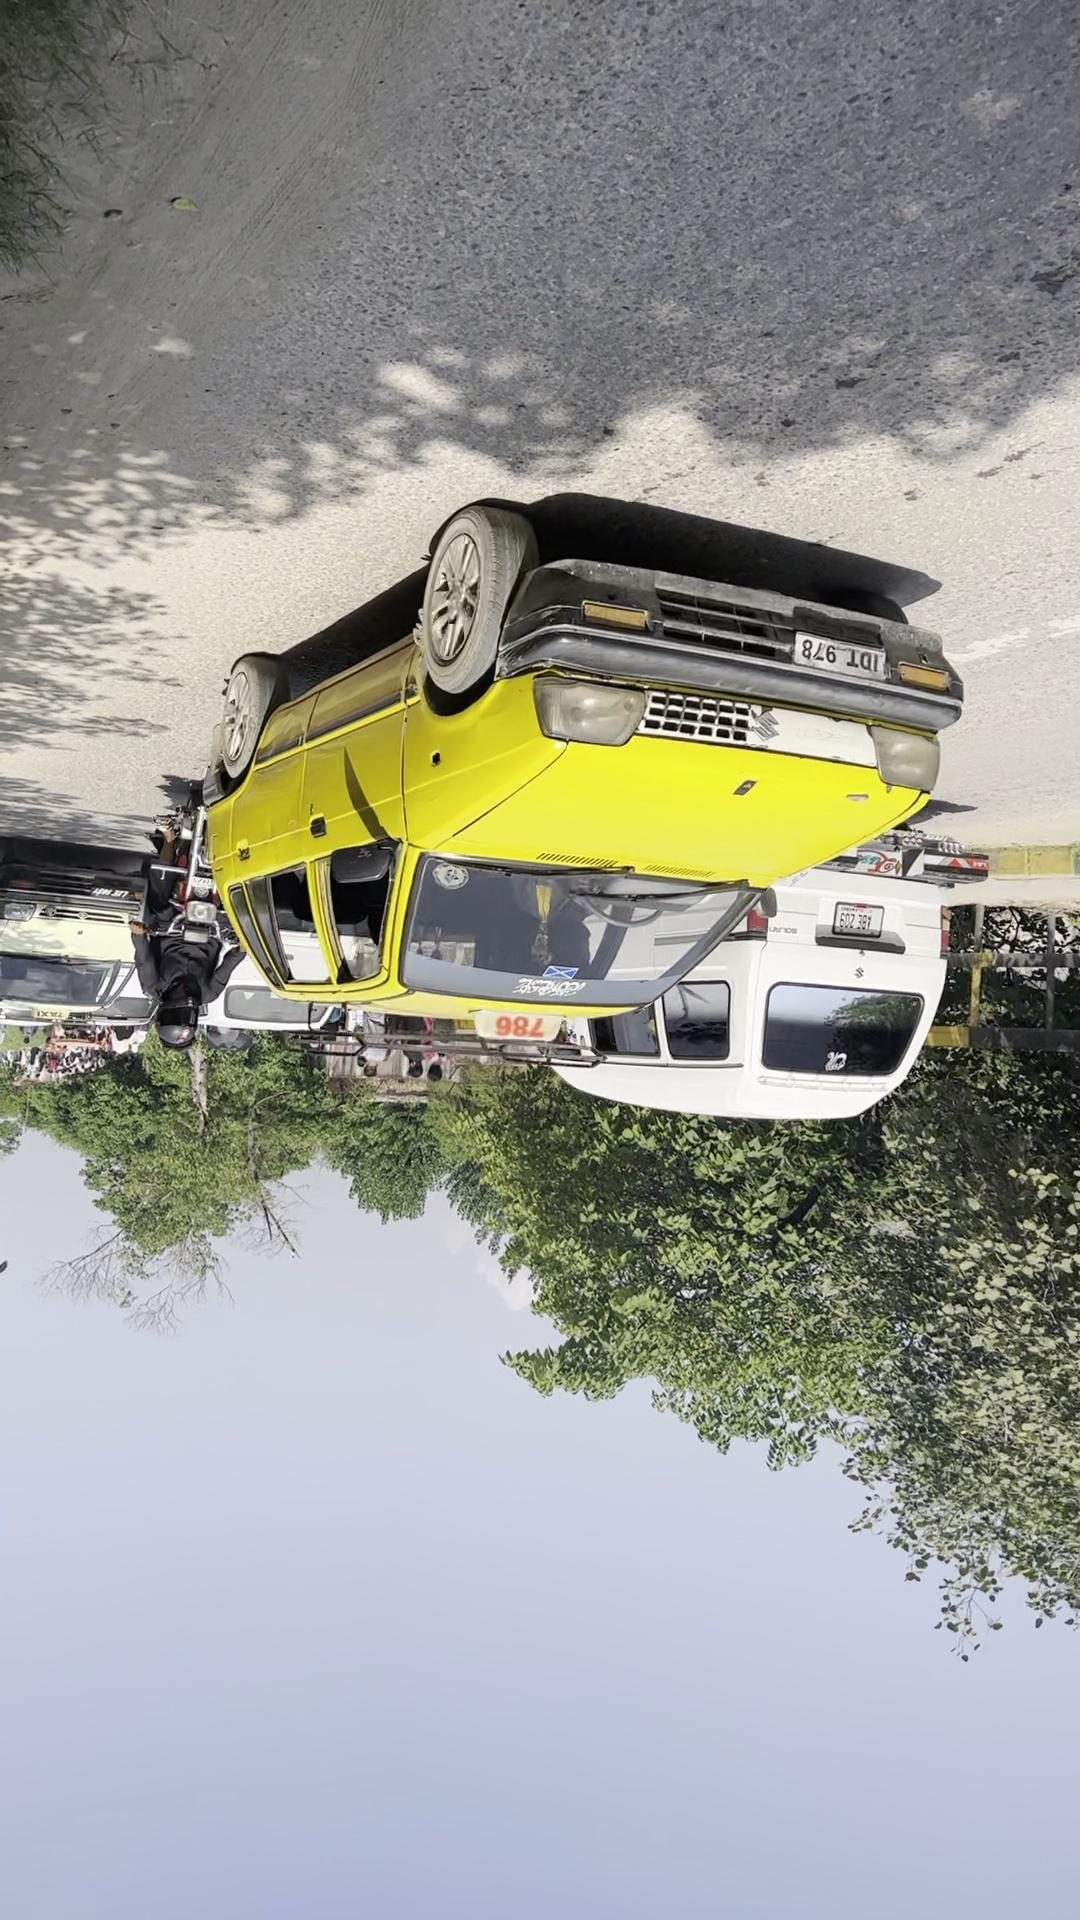windshield: (306, 899, 687, 1085)
